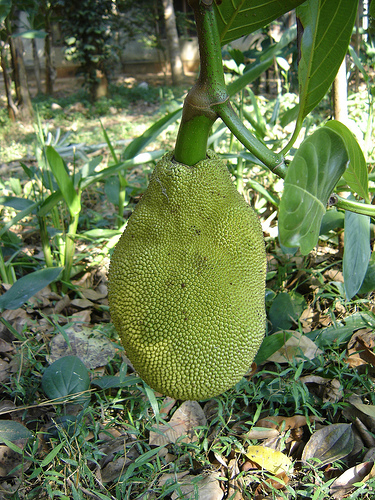jackfruit: (108, 106, 266, 401)
